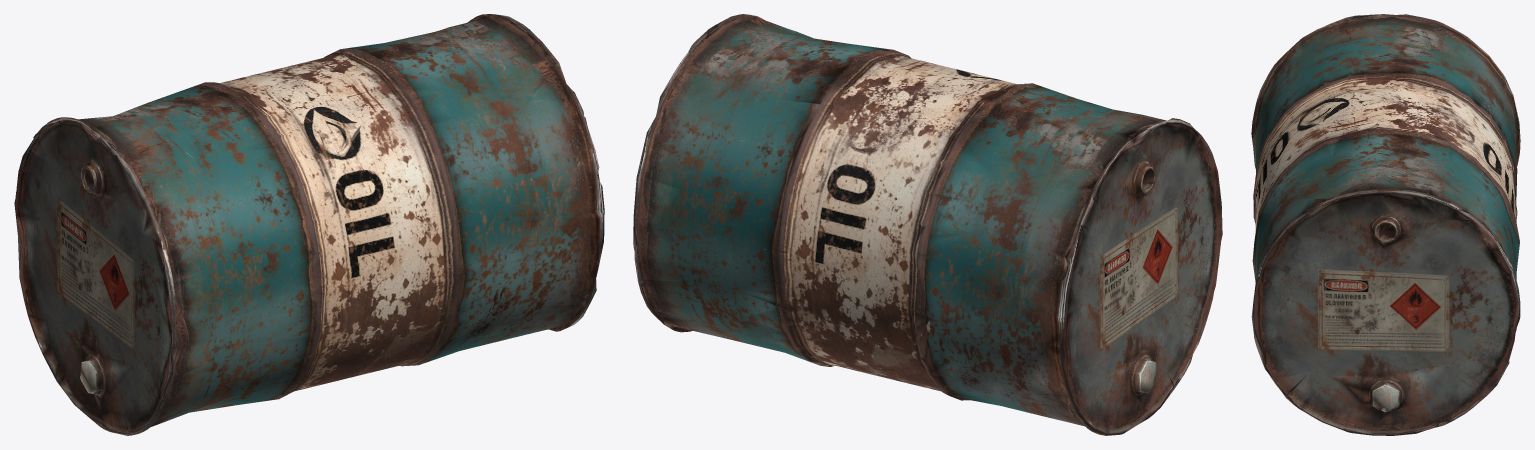
The model's file is oil_drum.glb.
3 renders of one model, left to right at view 1: azimuth 30°, elevation 25°; view 2: azimuth 150°, elevation 25°; view 3: azimuth 270°, elevation 25°, orthographic. The views are drawn at different scales.
Visible parts, largest first — view 1: oil_drum; view 2: oil_drum; view 3: oil_drum.
Boxes of the visible parts, left/top/right/bottom form: oil_drum: left=14, top=14, right=604, bottom=435; oil_drum: left=633, top=14, right=1222, bottom=435; oil_drum: left=1251, top=14, right=1520, bottom=435.
Size of the model in its own units: 190 by 120 by 119.
Materials: 1 (1 with a texture image).
